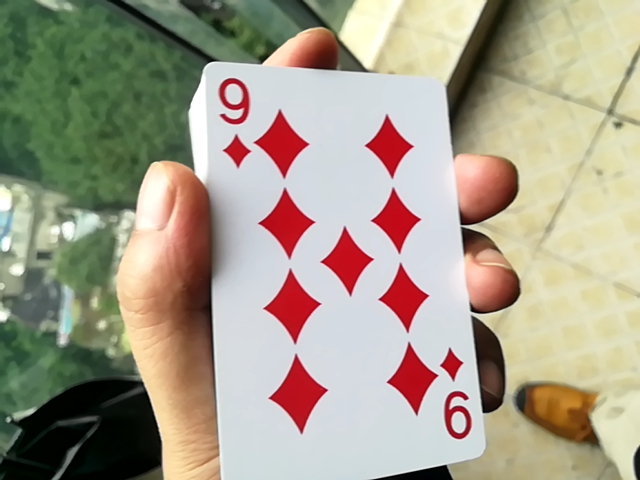fk 9: (178, 43, 478, 474)
